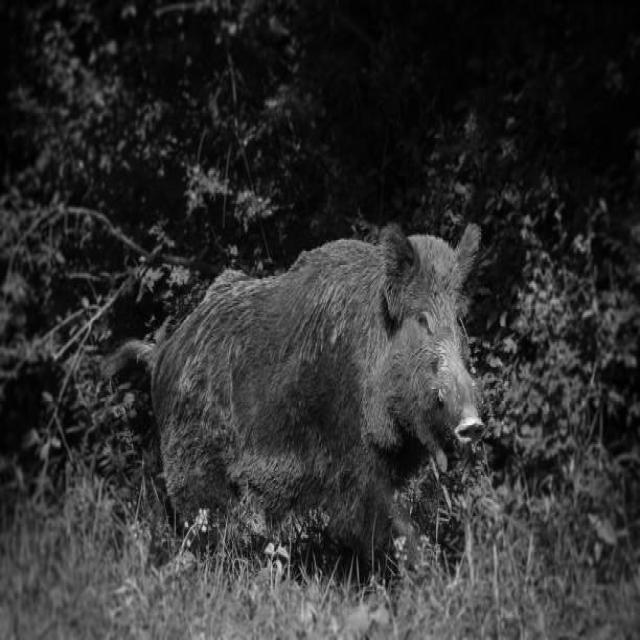boar: (102, 223, 482, 558)
